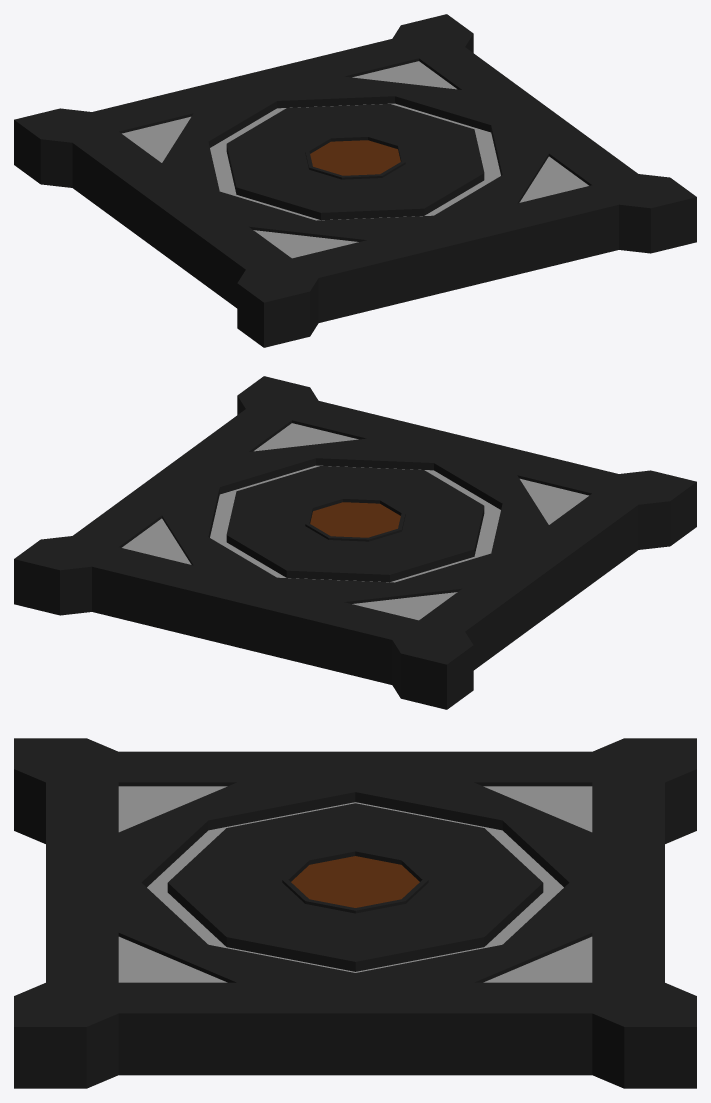
Rendered from Platform_Mechanic_Top.fbx.
The picture shows the model from 3 angles, top to bottom: view 1: azimuth 30°, elevation 25°; view 2: azimuth 150°, elevation 25°; view 3: azimuth 270°, elevation 25°; orthographic projection. The views are drawn at different scales.
Parts seen in each view (by area): view 1: Platform001; view 2: Platform001; view 3: Platform001.
Part boxes in pixels (box(x1,y1,x2,y2)): Platform001: box(14, 14, 696, 347); Platform001: box(14, 376, 696, 709); Platform001: box(14, 738, 696, 1088).
Size of the model in its own units: 199 by 20.72 by 199.
